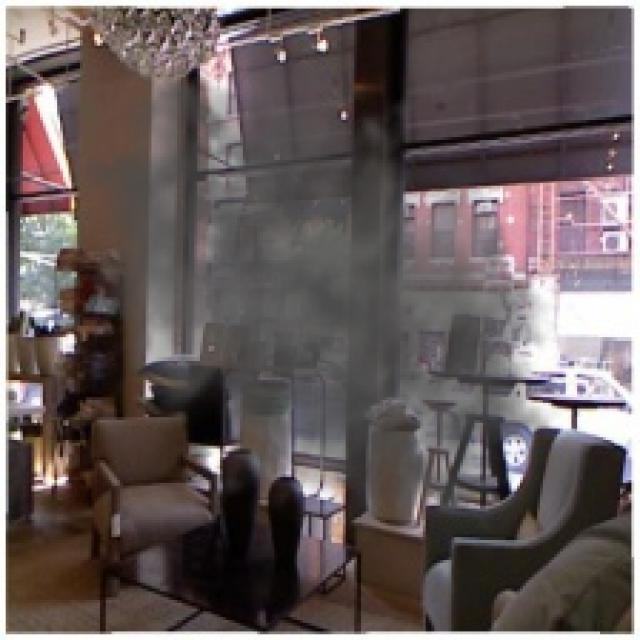Smoke: (48, 37, 586, 557)
